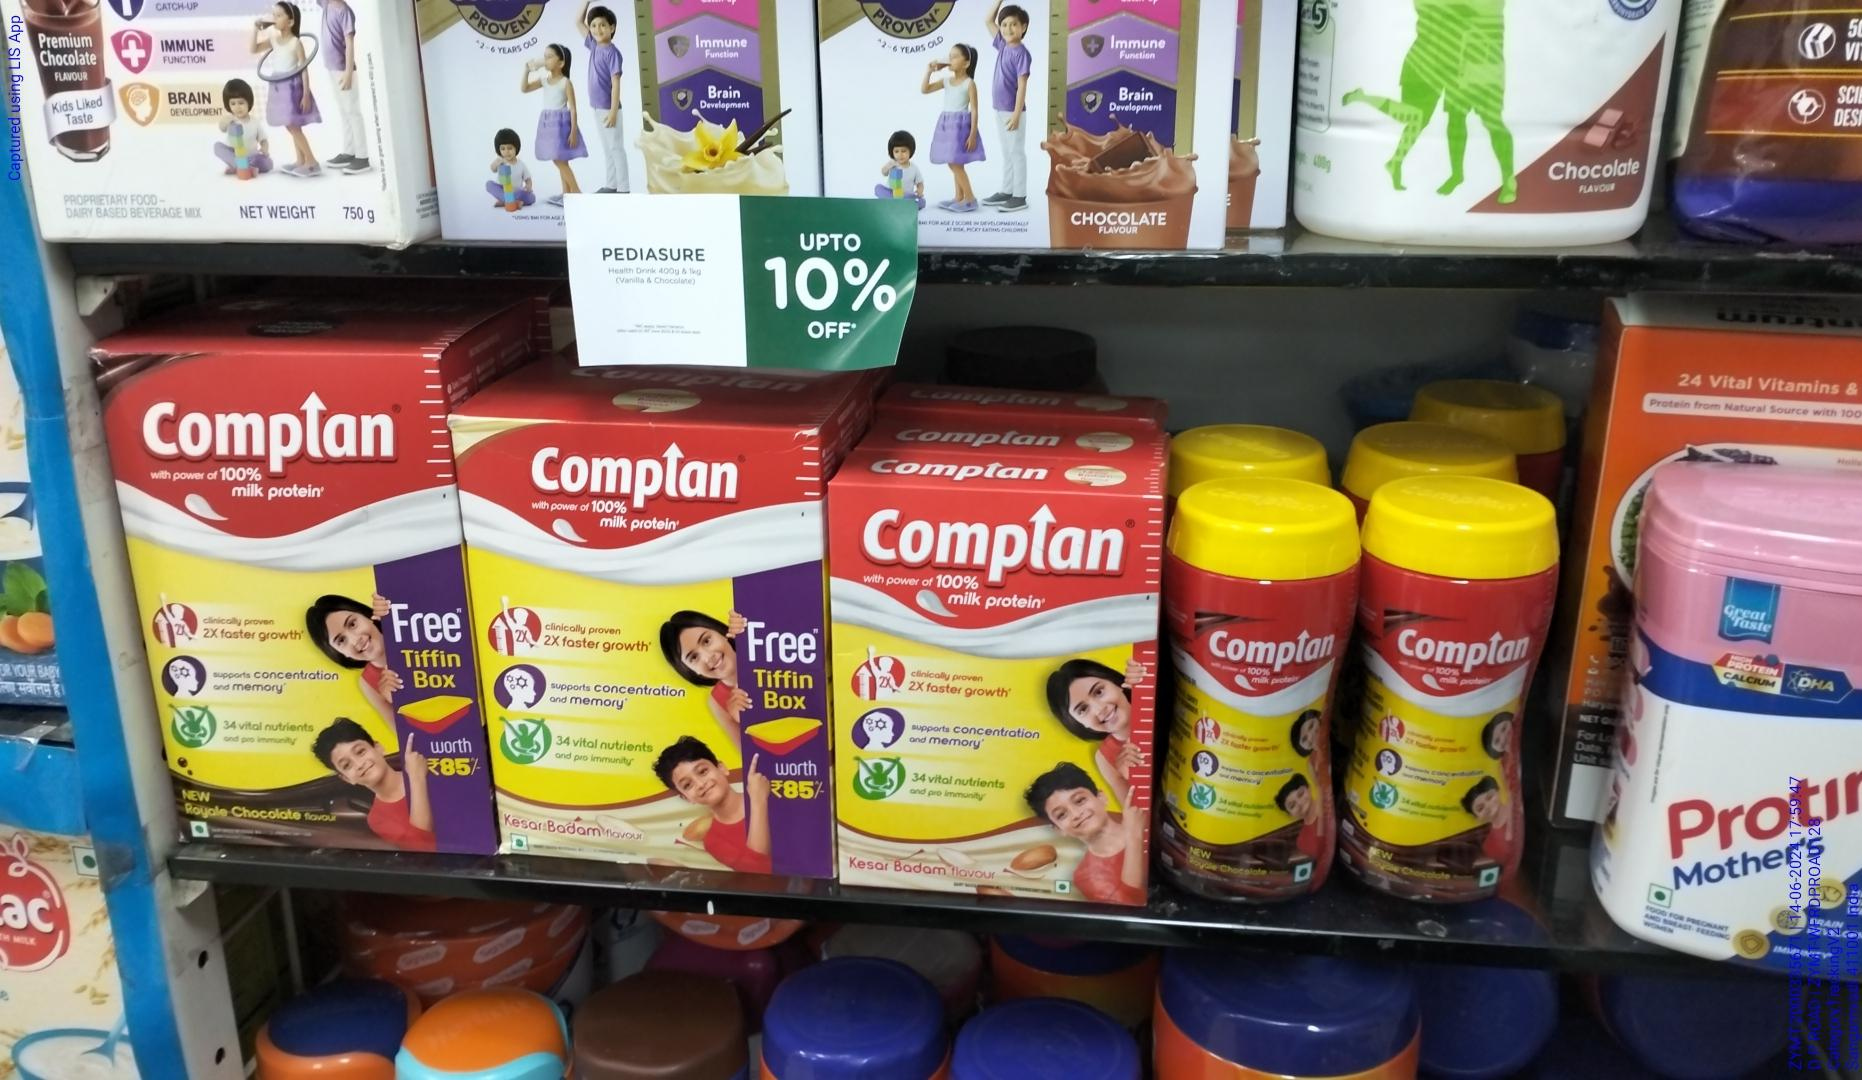COMPLAN_CHOCOLATE_500_GMS_JAR: (1169, 498, 1340, 913), (1363, 494, 1525, 908)
COMPLAN_CHOCOLATE_500_GMS_PACK: (121, 338, 455, 851)
COMPLAN_KESAR_BADAM_500_GMS_PACK: (478, 414, 821, 883), (834, 478, 1144, 908)
